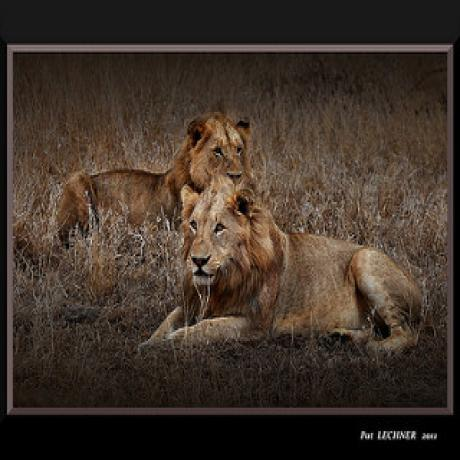Lion: (157, 181, 426, 363), (65, 110, 264, 229)
